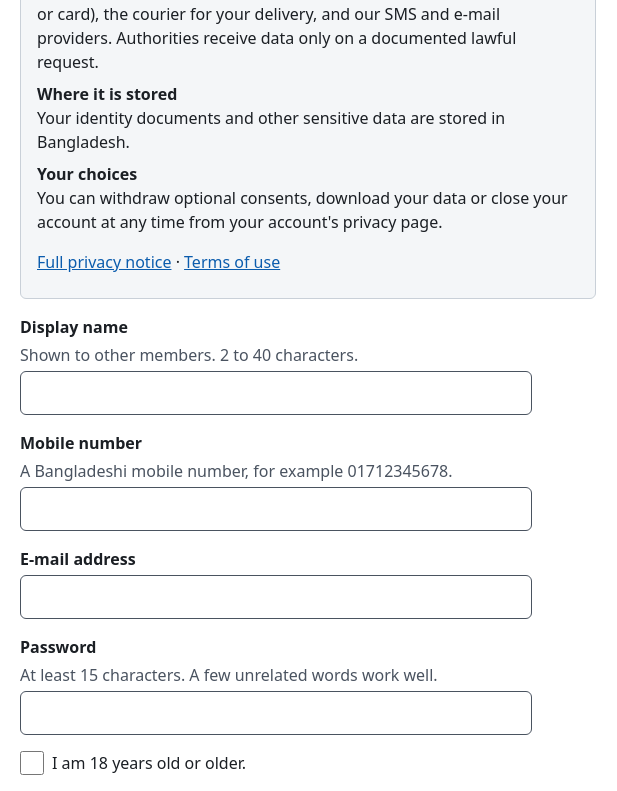
register › FR-ACC-04 without the age confirmation and the acceptance nothing is sent, and the errors are listed
(page scrolled)
Type "Rahim" into the field labelled "Display name".
click(276, 393); type("Rahim")  # box x1=20 y1=371 x2=532 y2=415
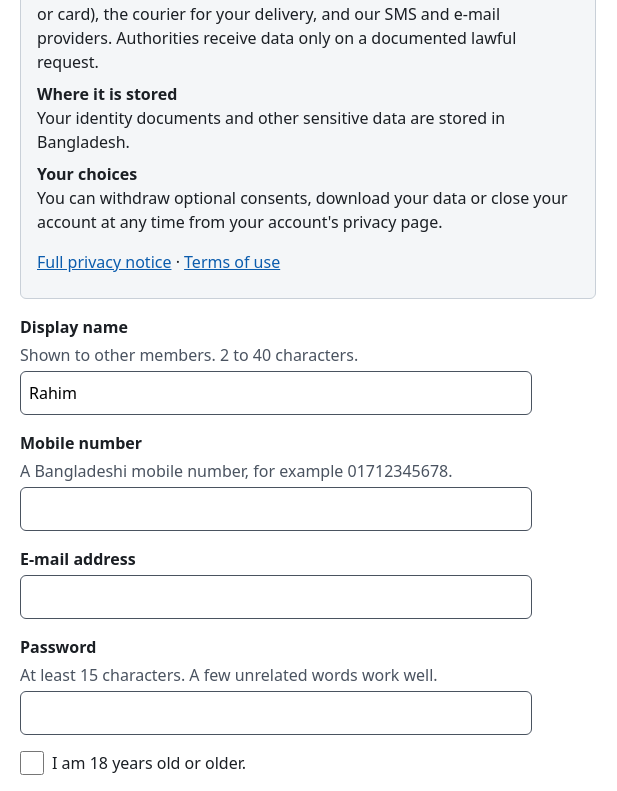
Type "০১৭১২-৩৪৫৬৭৮" into the field labelled "Mobile number".
click(276, 509); type("০১৭১২-৩৪৫৬৭৮")  # box x1=20 y1=487 x2=532 y2=531
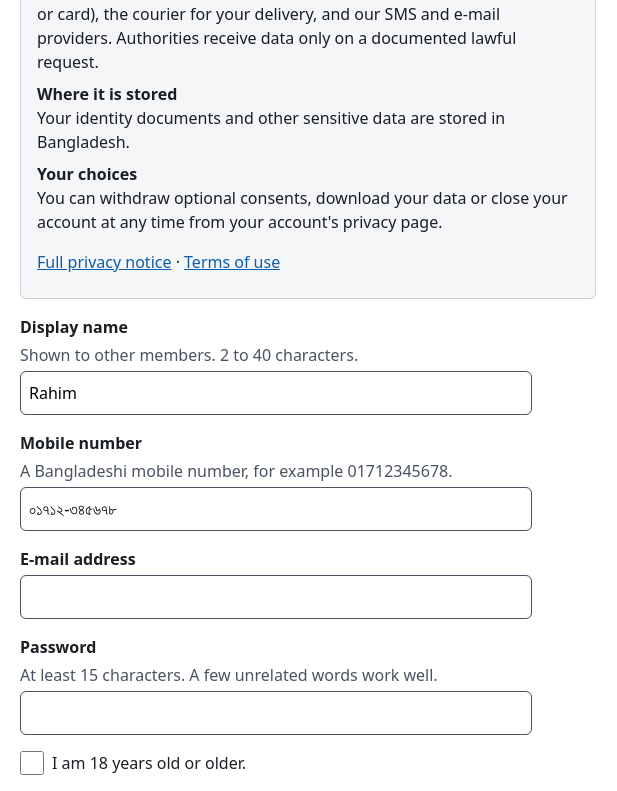
Type "rahim@example.com" into the field labelled "E-mail address".
click(276, 597); type("rahim@example.com")  # box x1=20 y1=575 x2=532 y2=619
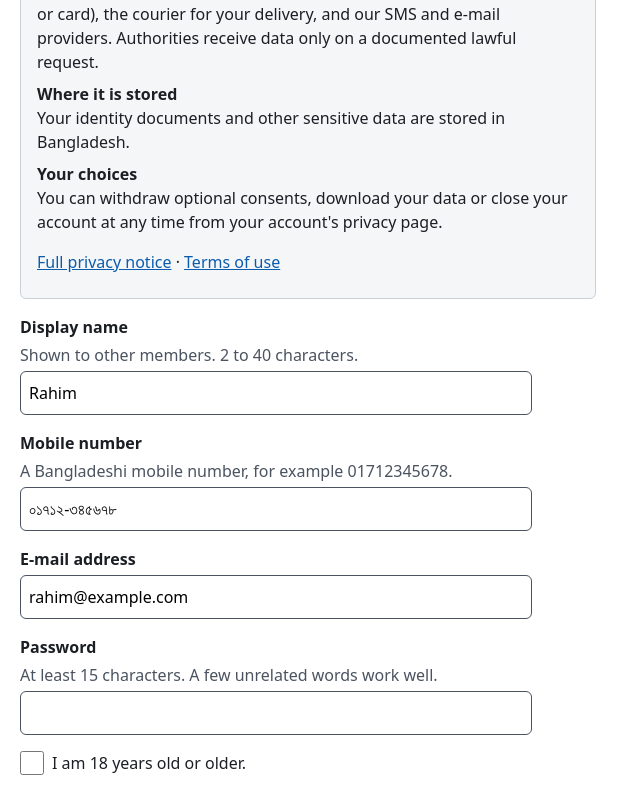
Type "correct horse battery staple" into the password field labelled "Password".
click(276, 713); type("correct horse battery staple")  # box x1=20 y1=691 x2=532 y2=735
(page scrolled)
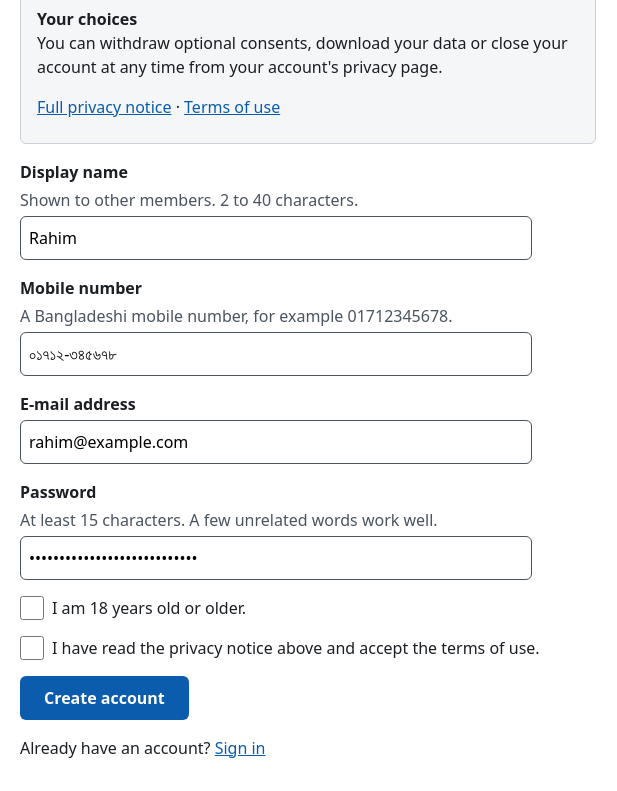
Click the button "Create account".
click(104, 698)  # box x1=20 y1=676 x2=189 y2=720
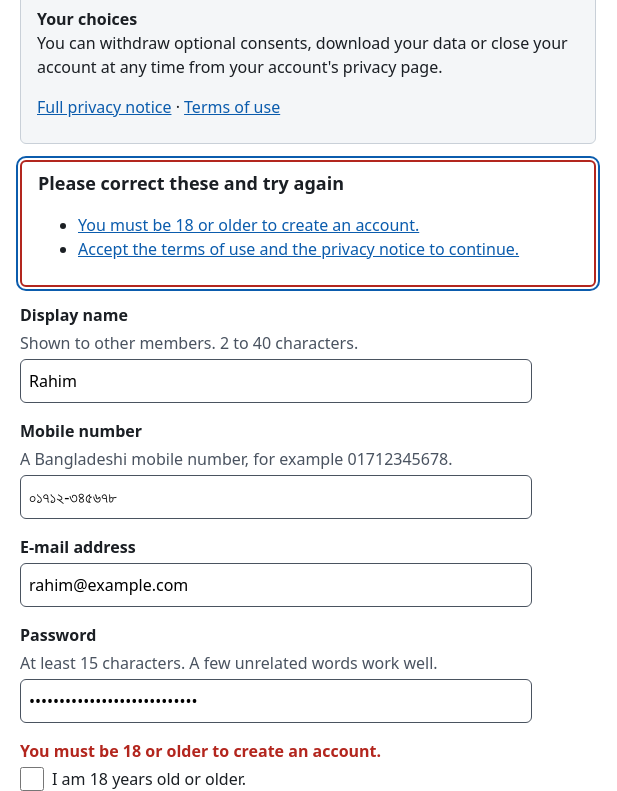
Expected: the message shows "You must be 18 or older", x1=78 y1=214 x2=419 y2=236
Expected: the message shows "Accept the terms of use", x1=78 y1=238 x2=519 y2=260
